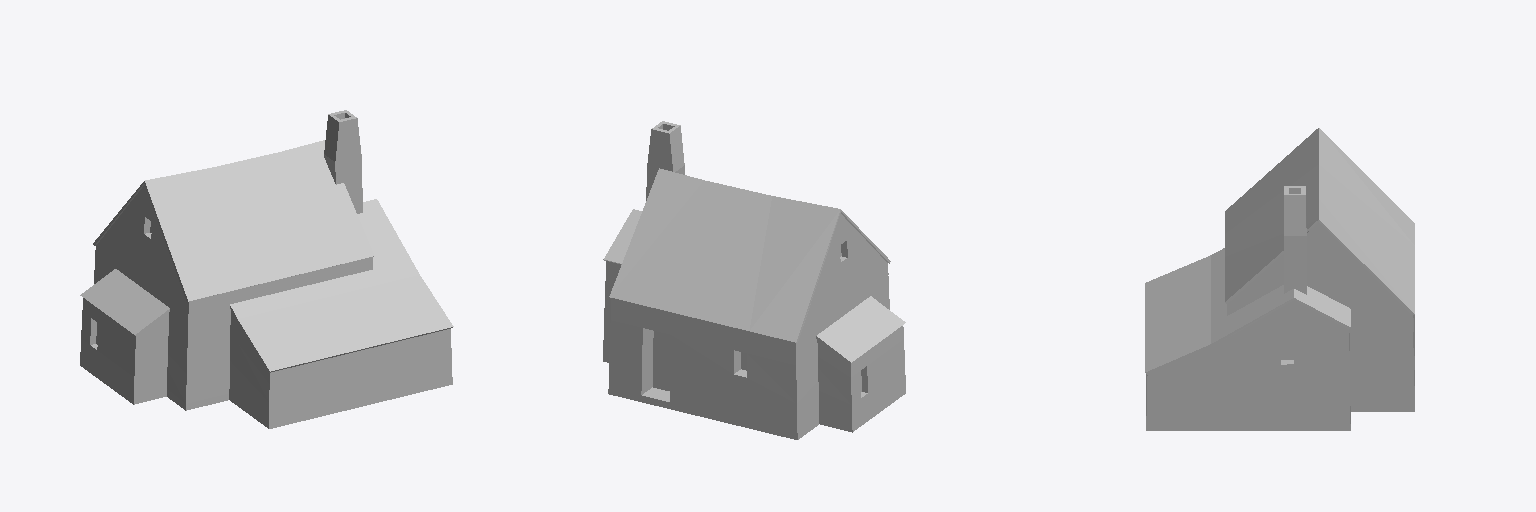
Rendered from irishHouse3.obj.
The picture shows the model from 3 angles: view 1: azimuth 30°, elevation 25°; view 2: azimuth 150°, elevation 25°; view 3: azimuth 270°, elevation 25°; orthographic projection.
Visible parts, largest first — view 1: Cube.016; view 2: Cube.016; view 3: Cube.016.
Part boxes in pixels (bbox=[...]): Cube.016: bbox=[80, 110, 453, 428]; Cube.016: bbox=[603, 121, 905, 439]; Cube.016: bbox=[1145, 128, 1414, 430].
Bounding box in the file's own units: 9.06 × 7.39 × 8.13.